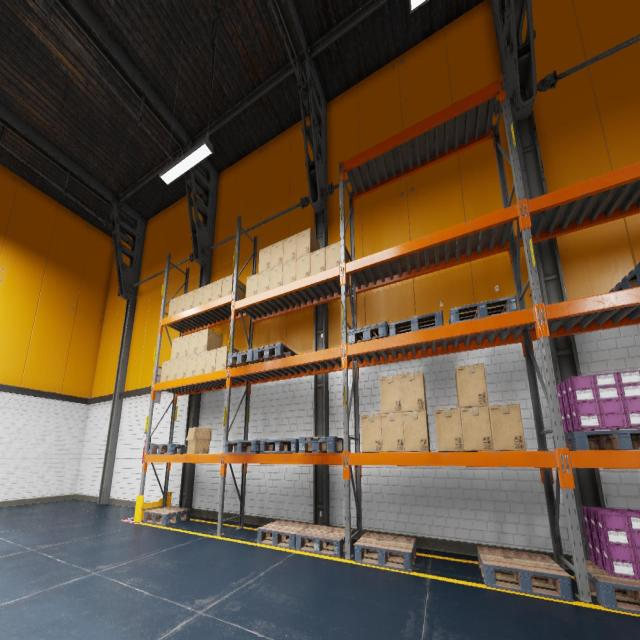box: (488, 404, 526, 451), (461, 406, 494, 451), (456, 363, 488, 408), (434, 408, 464, 452), (400, 372, 427, 414), (403, 411, 430, 452), (326, 241, 349, 283), (381, 412, 405, 452), (380, 375, 402, 413), (361, 414, 382, 452), (296, 228, 320, 258), (221, 274, 246, 300), (186, 428, 211, 453), (197, 328, 222, 353), (215, 346, 239, 371), (310, 247, 325, 275), (296, 253, 310, 280), (283, 234, 296, 263), (282, 258, 296, 284), (270, 240, 283, 268), (258, 245, 271, 273), (269, 264, 283, 289), (257, 269, 270, 293), (246, 273, 258, 298), (205, 348, 216, 373), (195, 352, 206, 375), (170, 336, 181, 359), (188, 331, 198, 356), (179, 334, 189, 358), (186, 354, 196, 377), (177, 356, 187, 379), (168, 358, 178, 381), (160, 360, 170, 382), (212, 278, 222, 300), (202, 283, 212, 304), (193, 286, 203, 307), (184, 290, 194, 310), (176, 294, 185, 314), (168, 297, 177, 316)
pallets: (477, 546, 574, 602), (570, 558, 640, 615), (355, 532, 416, 573), (448, 295, 518, 324), (296, 524, 353, 558), (552, 429, 640, 450), (257, 520, 312, 550), (389, 311, 443, 336), (608, 261, 640, 292), (143, 506, 191, 526), (348, 321, 389, 344), (253, 342, 298, 362), (299, 437, 350, 452), (260, 438, 308, 452), (227, 349, 264, 367), (224, 440, 260, 453), (149, 444, 187, 454)
